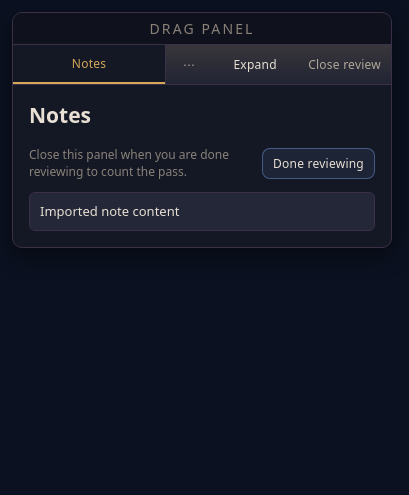
Test: RoomPanel › keeps archaeologist review focused on notes until the tools menu is opened
Expected: the button "Done reviewing" is shown, [262, 148, 375, 179]
Expected: the text "Quality bonus:" is not shown
Click the button named "Show room tools": (189, 64) [166, 45, 212, 84]
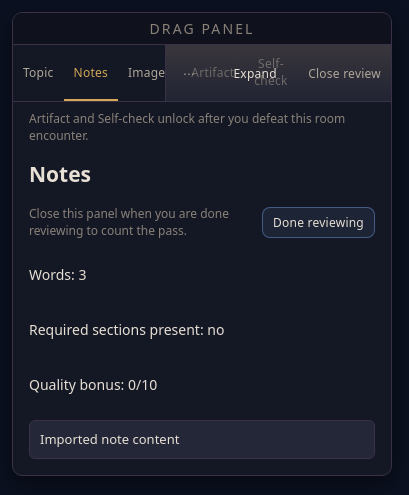
Now the text "Quality bonus: 0/10" is shown, box [29, 375, 157, 394]
